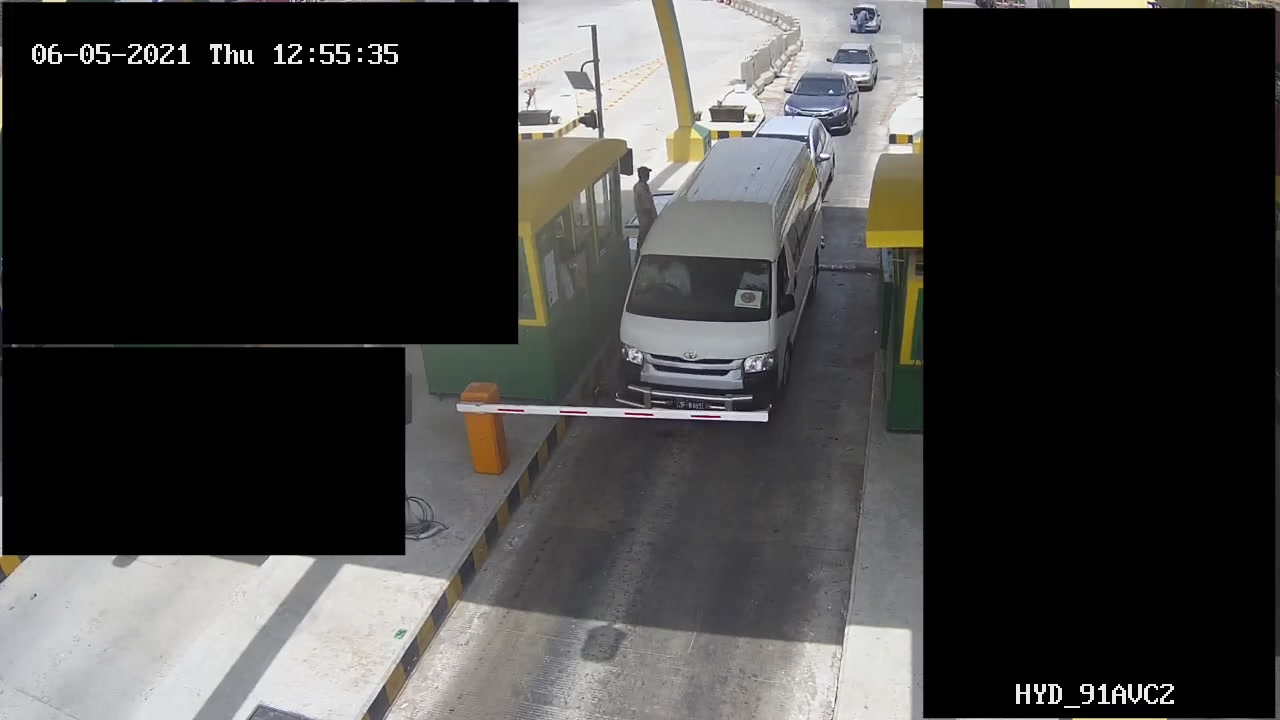F2: (606, 132, 828, 418)
